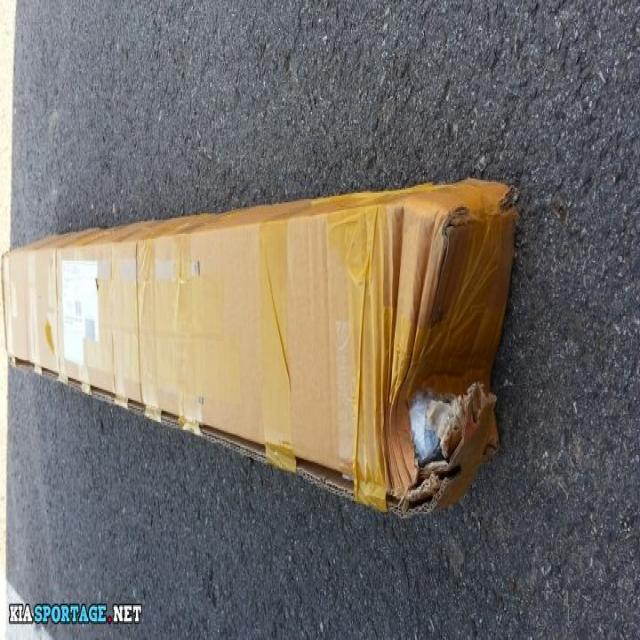hole: (399, 381, 491, 512)
